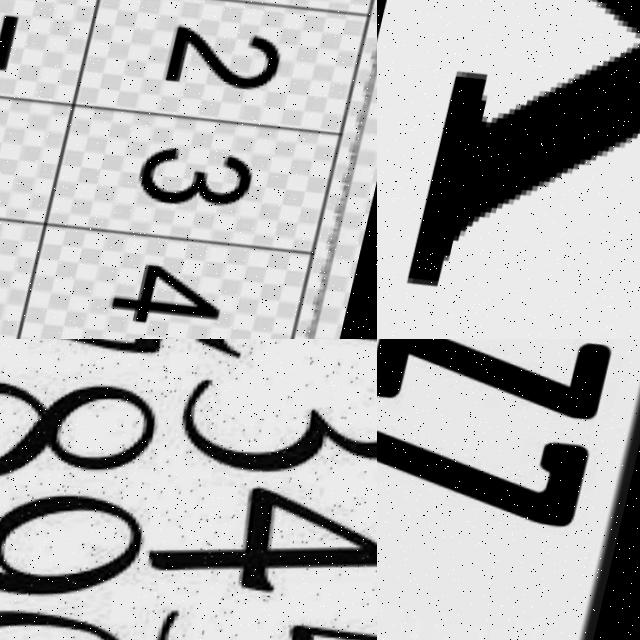2: (173, 339, 377, 418), (156, 9, 290, 123)
3: (163, 339, 377, 532), (128, 136, 268, 242)
4: (132, 439, 377, 640), (101, 255, 236, 339)
5: (138, 566, 377, 640)
7: (377, 405, 597, 561), (0, 339, 184, 414)
8: (0, 339, 176, 531)
9: (0, 445, 166, 640)
X: (401, 0, 640, 339)
Z: (377, 339, 618, 454)
